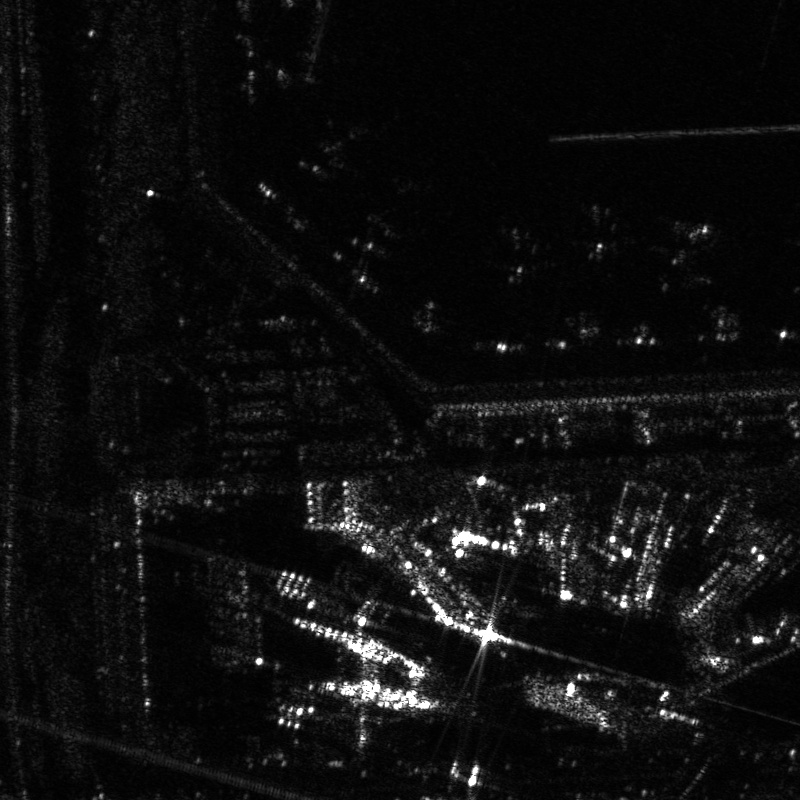A220: (294, 113, 377, 184), (569, 203, 646, 275)
Boeing737: (481, 228, 566, 294)
other: (652, 218, 717, 294)
